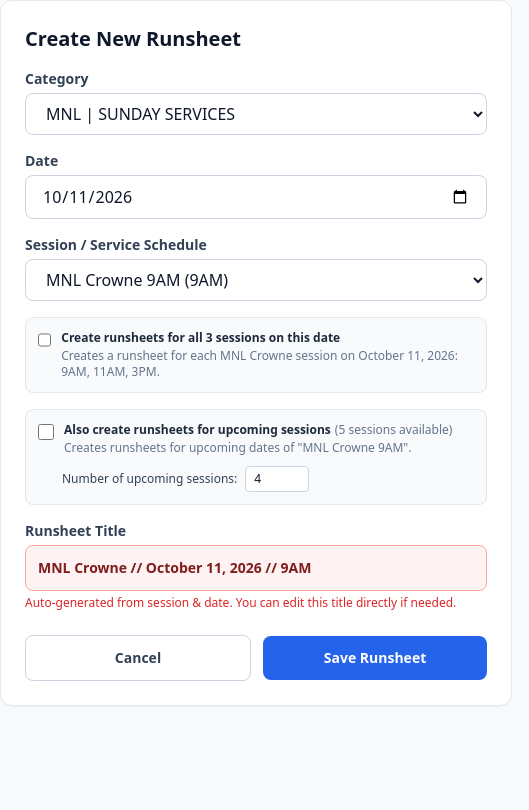
CreateRunsheetForm batch operations › Skip reporting, onCreated, and error handling › reports partial failure with created and failed items, naming failed titles with error toast and banner
Expected: the number field named "Upcoming sessions count" is shown, [245,466,309,492]
Click the checkbox labelled "Also create runsheets for upcoming sessions" at [46, 432], box [38,424,54,440]
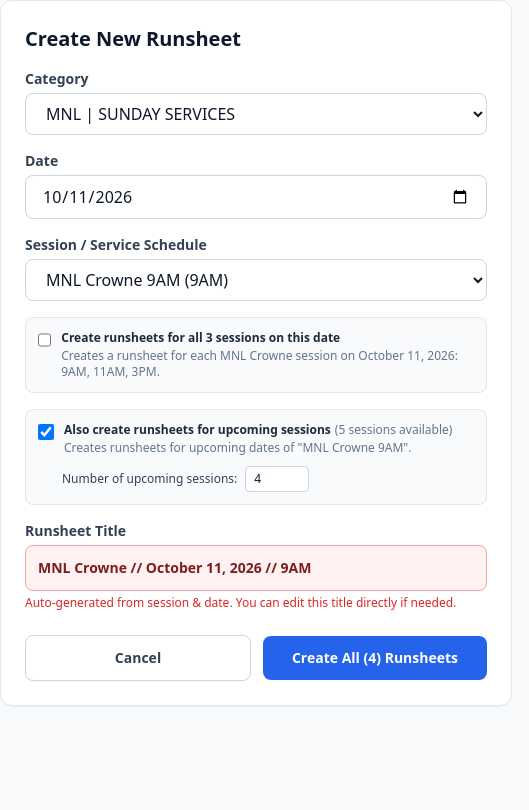
Replace the text in the number field named "Upcoming sessions count" with "2" at [277, 479], box [245,466,309,492]
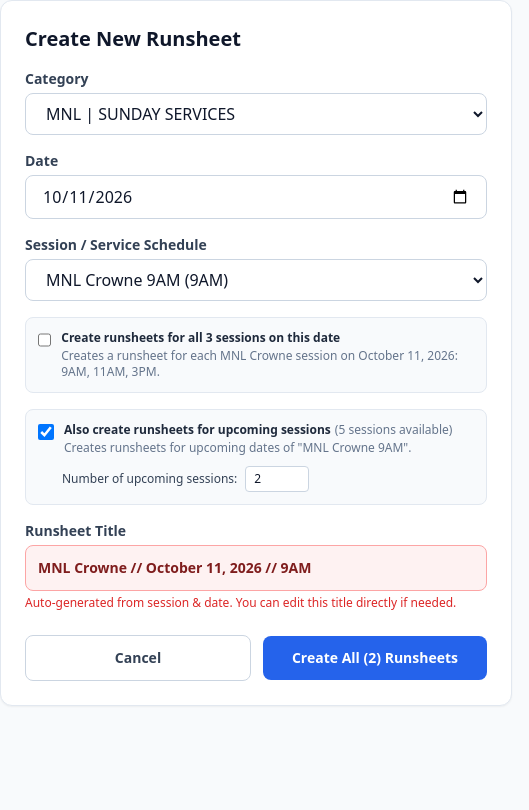
Click the button "Create All (2) Runsheets" at [375, 658], box [263,636,487,680]
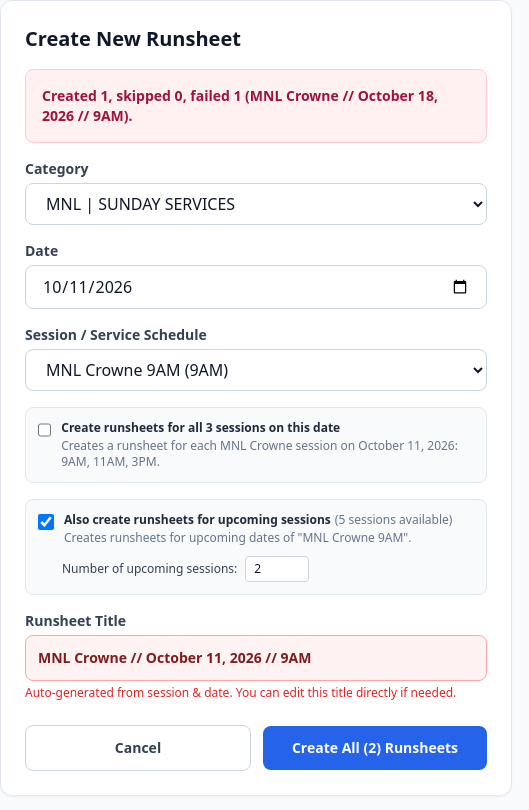
Now the text "Created 1, skipped 0, failed 1" is shown, box [42,86,438,125]
